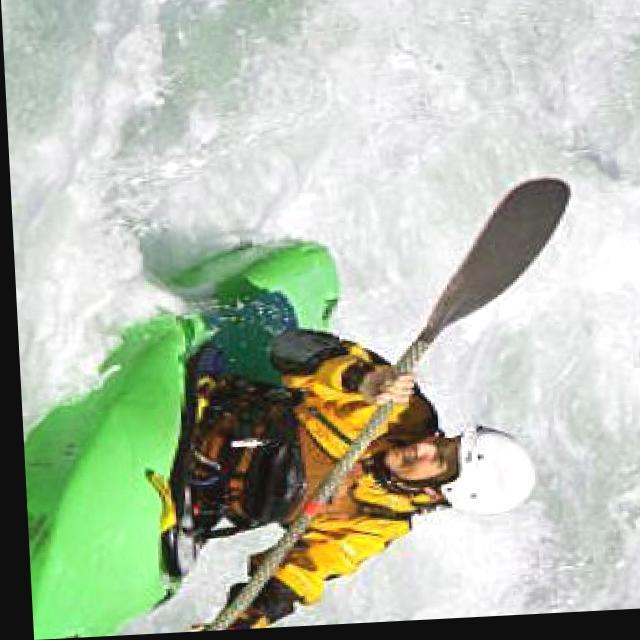kayak: (18, 241, 336, 640)
